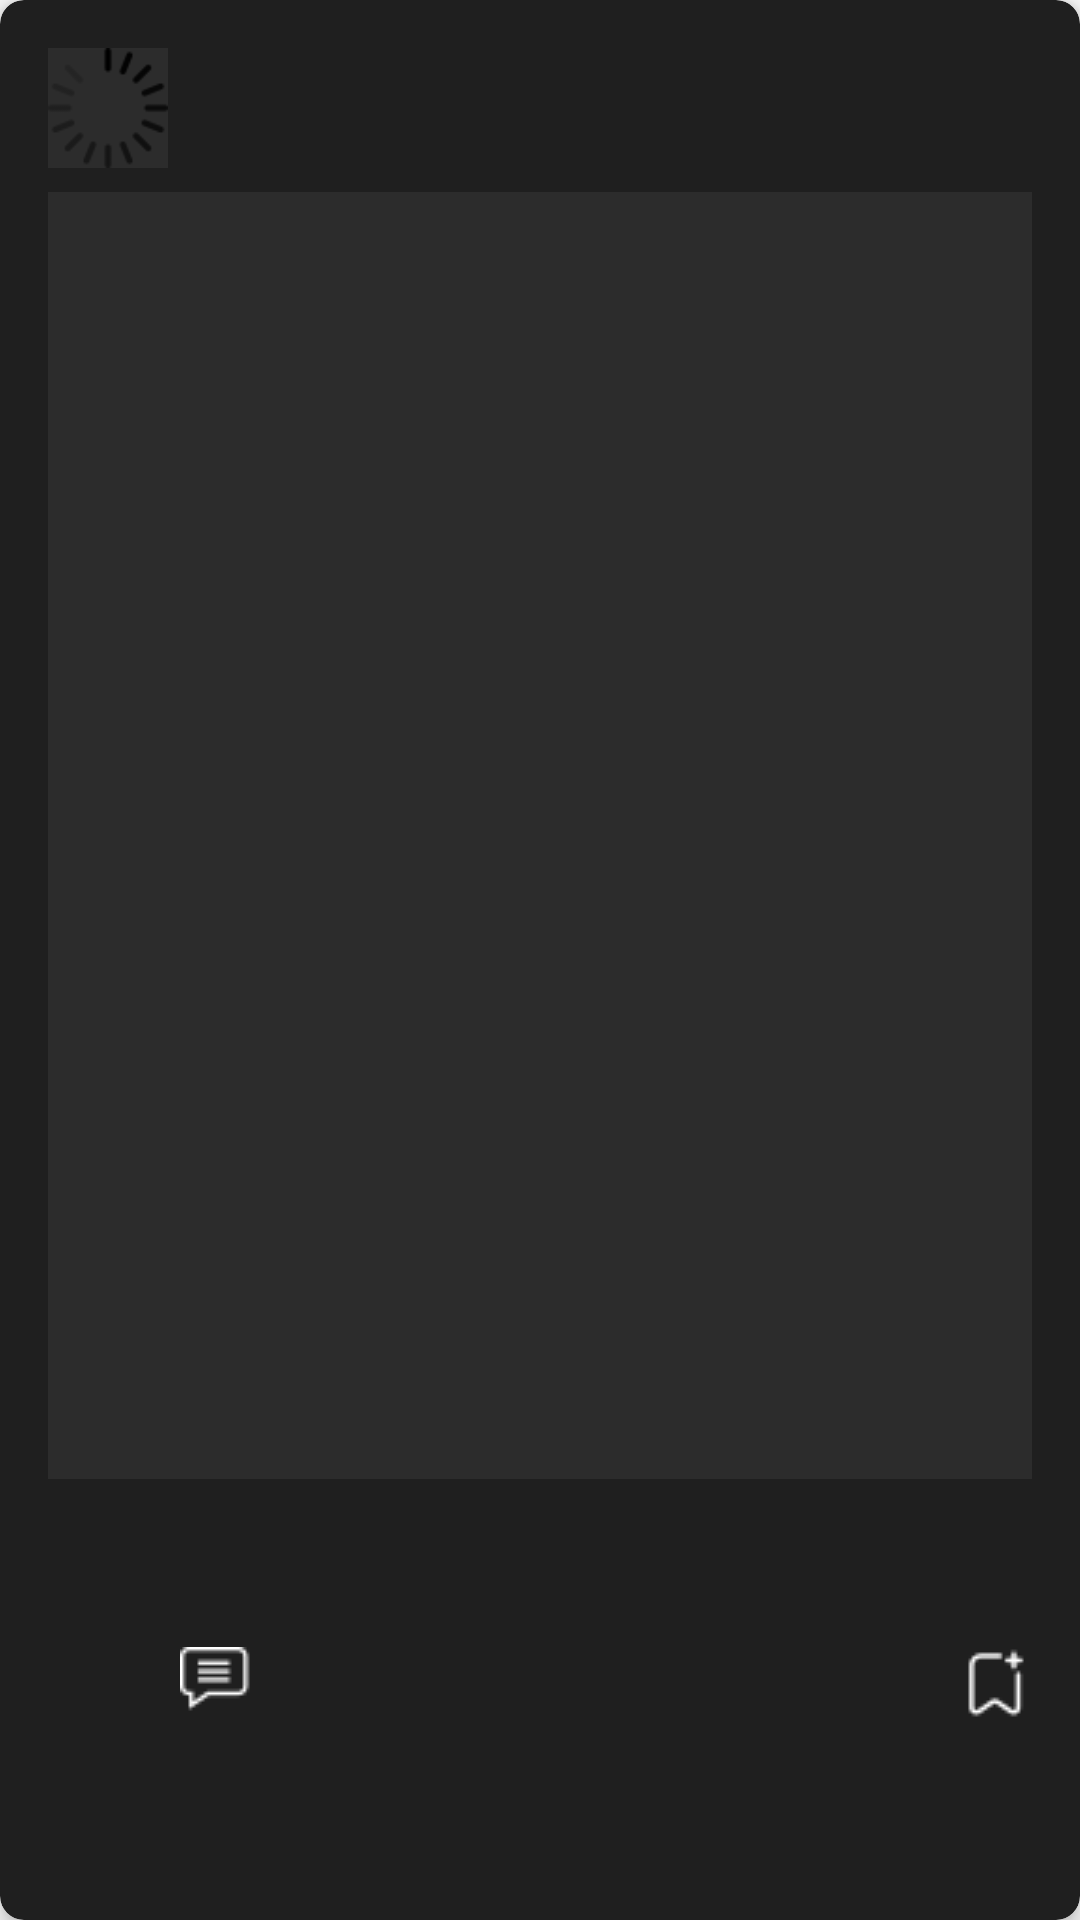

Icon click points for this 1080w x 1920h phone screenshot, format point (x, y):
bookmark: point (996, 1683)
comment: point (215, 1678)
rotating loader: point (108, 108)
